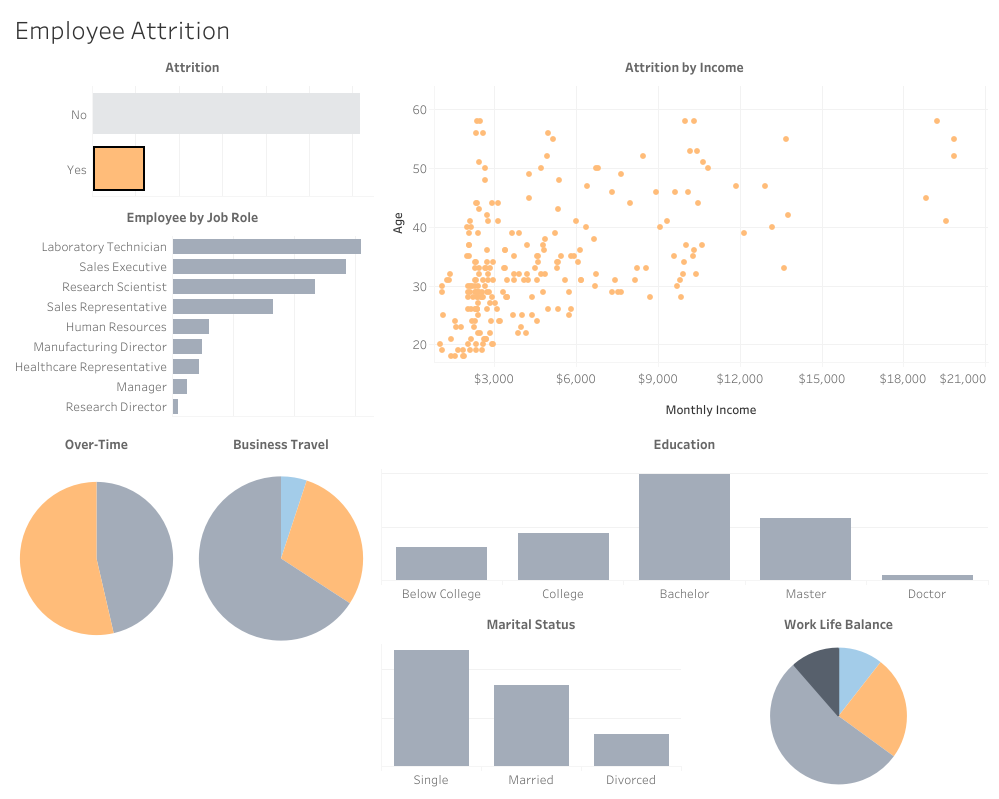

This screenshot's page, from the dashboard's own definition file:
{"tool":"tableau","page":{"name":"Dashboard 1","canvas":[1000,800],"ordinal":0},"visuals":[{"type":"title","box":[8,8,984,42]},{"type":"text","box":[8,50,369,32]},{"type":"text","box":[377,50,615,32]},{"type":"worksheet","title":"Attrition","mark":"Automatic","rows":["Attrition"],"cols":["HR-Employee-Attrition.csv_11710178E27A47428BB670F5FF1D3BA8"],"box":[8,82,369,118]},{"type":"worksheet","title":"Scatterplot","mark":"Shape","rows":["Age"],"cols":["MonthlyIncome"],"box":[377,82,615,340]},{"type":"text","box":[8,200,369,32]},{"type":"worksheet","title":"Employee by Job Role","mark":"Automatic","rows":["JobRole"],"cols":["HR-Employee-Attrition.csv_11710178E27A47428BB670F5FF1D3BA8"],"box":[8,232,369,190]},{"type":"text","box":[8,422,177,43]},{"type":"text","box":[185,422,192,43]},{"type":"text","box":[377,422,615,43]},{"type":"worksheet","title":"Over-time","mark":"Pie","box":[8,465,177,141]},{"type":"worksheet","title":"Business Travel","mark":"Pie","box":[185,465,192,141]},{"type":"worksheet","title":"Education","mark":"Automatic","rows":["HR-Employee-Attrition.csv_11710178E27A47428BB670F5FF1D3BA8"],"cols":["Education"],"box":[377,465,615,141.5]},{"type":"text","box":[8,606,369,34]},{"type":"text","box":[377,606.5,307.5,33.5]},{"type":"text","box":[684.5,606.5,307.5,33.5]},{"type":"worksheet","title":"Distance","mark":"Automatic","rows":["HR-Employee-Attrition.csv_11710178E27A47428BB670F5FF1D3BA8"],"cols":["DistanceFromHome"],"box":[8,640,369,152]},{"type":"worksheet","title":"Marital Status","mark":"Automatic","rows":["HR-Employee-Attrition.csv_11710178E27A47428BB670F5FF1D3BA8"],"cols":["MaritalStatus"],"box":[377,640,307.5,152]},{"type":"worksheet","title":"Work Life Balance","mark":"Pie","box":[684.5,640,307.5,152]}]}

Visuals, with their boxes in screenshot pixels (x1, y1, x2, y2), scaled from the page's 1000x800 canvas onto the 999x799 screenshot:
title: l=8, t=8, r=991, b=50
text: l=8, t=50, r=377, b=82
text: l=377, t=50, r=991, b=82
"Attrition" worksheet: l=8, t=82, r=377, b=200
"Scatterplot" worksheet (Shape marks): l=377, t=82, r=991, b=421
text: l=8, t=200, r=377, b=232
"Employee by Job Role" worksheet: l=8, t=232, r=377, b=421
text: l=8, t=421, r=185, b=464
text: l=185, t=421, r=377, b=464
text: l=377, t=421, r=991, b=464
"Over-time" worksheet (Pie marks): l=8, t=464, r=185, b=605
"Business Travel" worksheet (Pie marks): l=185, t=464, r=377, b=605
"Education" worksheet: l=377, t=464, r=991, b=606
text: l=8, t=605, r=377, b=639
text: l=377, t=606, r=684, b=639
text: l=684, t=606, r=991, b=639
"Distance" worksheet: l=8, t=639, r=377, b=791
"Marital Status" worksheet: l=377, t=639, r=684, b=791
"Work Life Balance" worksheet (Pie marks): l=684, t=639, r=991, b=791
